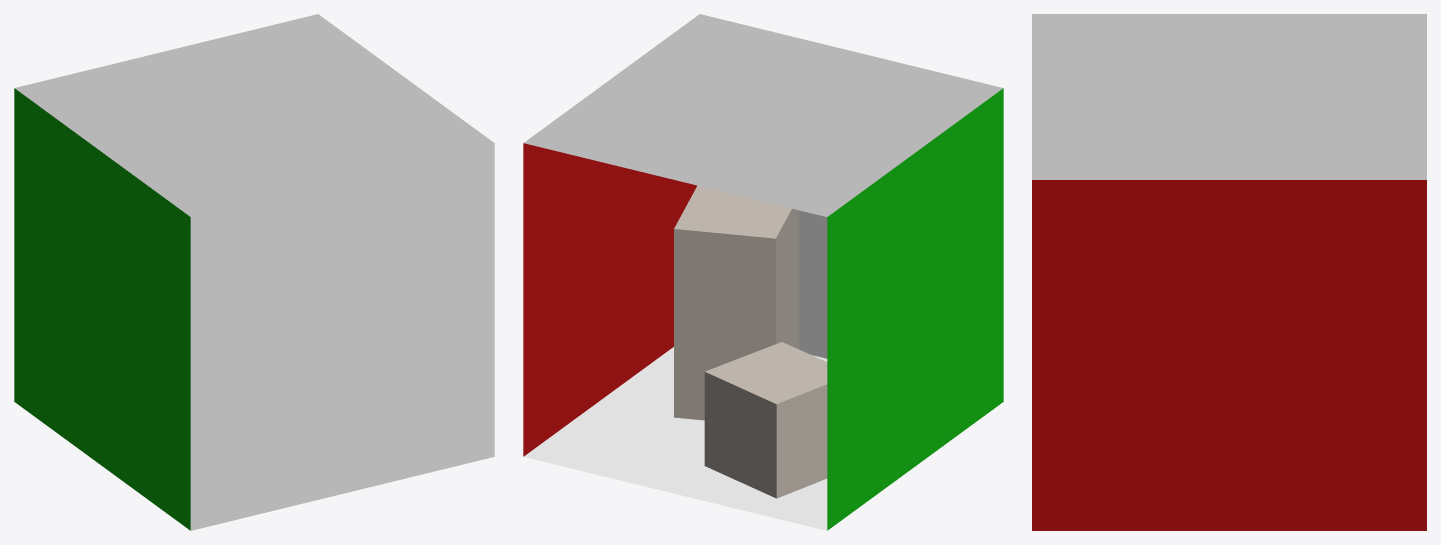
Rendered from boxlightsss.obj.
The picture shows the model from 3 angles, left to right: view 1: azimuth 30°, elevation 25°; view 2: azimuth 150°, elevation 25°; view 3: azimuth 270°, elevation 25°; orthographic projection. The views are drawn at different scales.
Visible parts, largest first — view 1: object 2; view 2: object 2; view 3: object 2.
Boxes of the visible parts, left/top/right/bottom form: object 2: left=14, top=14, right=494, bottom=530; object 2: left=523, top=14, right=1003, bottom=530; object 2: left=1032, top=14, right=1426, bottom=530.
Size of the model in its own units: 5.56 by 5.49 by 5.59.
